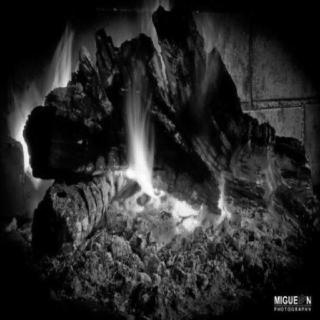Fire: (3, 5, 295, 248)
